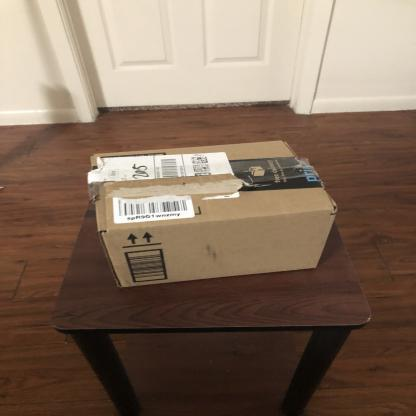package: (88, 140, 338, 290)
